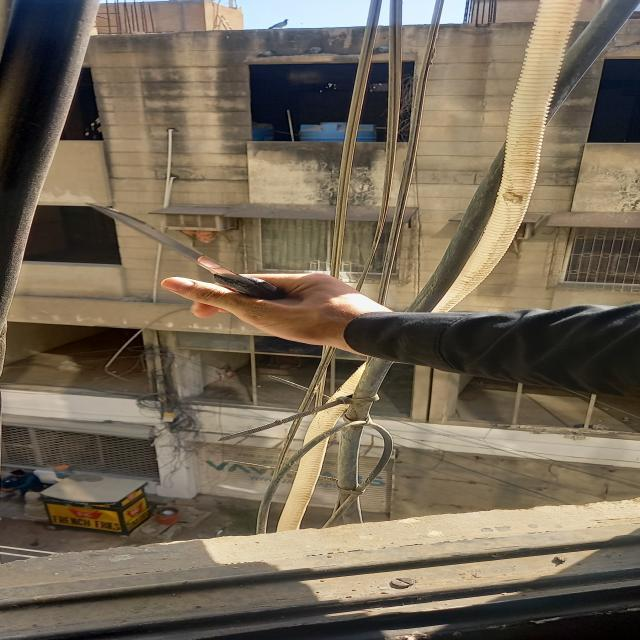Knife: (79, 196, 297, 314)
